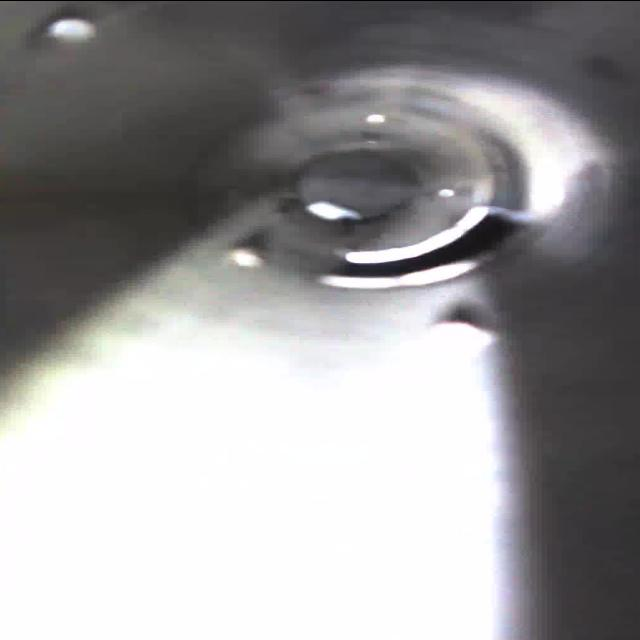hole: (312, 199, 539, 297)
